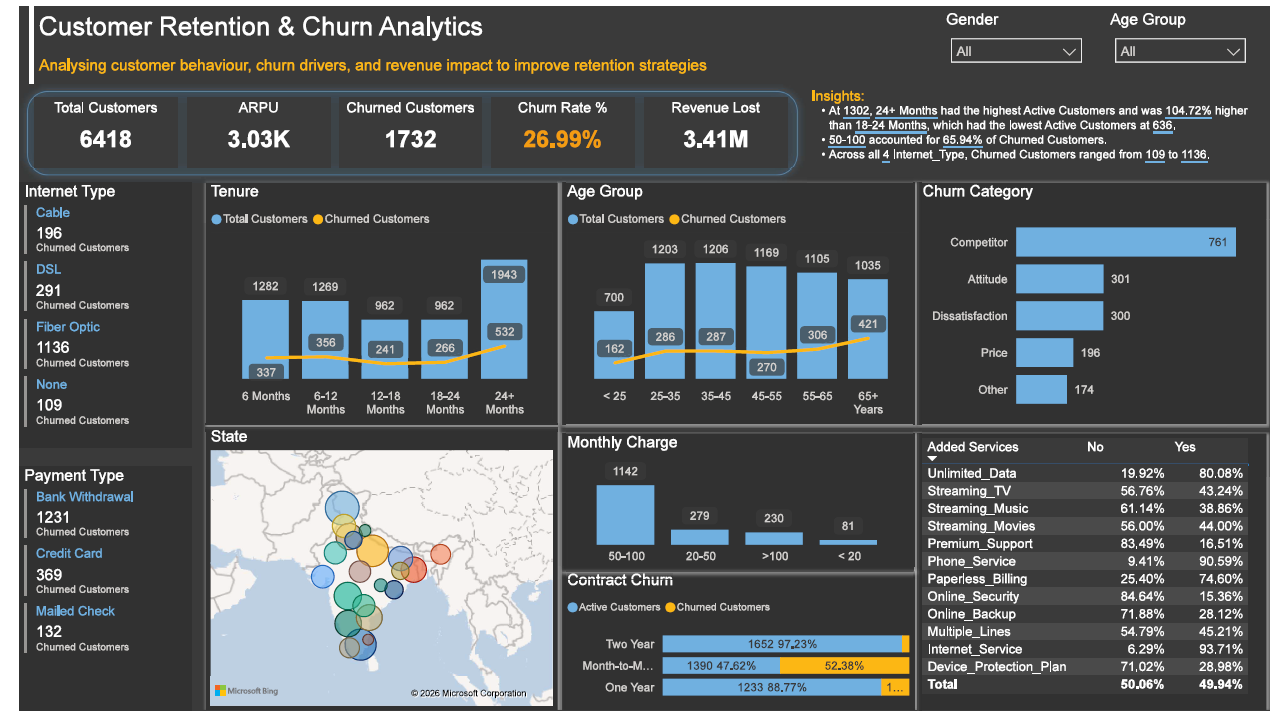

The dashboard page shown, as its layout file describes it:
{"tool":"powerbi","page":{"name":"Churn Analysis Dashboard","canvas":[1280,720],"ordinal":0},"visuals":[{"type":"shape","box":[0,77.9,805.8,102.3],"z":0},{"type":"textbox","box":[15.1,0,798.8,77.9],"z":1000},{"type":"card","title":"Total Customers","fields":{"Values":["Calculations.Total Customers"]},"box":[15.1,93.3,146.5,70.9],"z":2000},{"type":"card","title":"ARPU","fields":{"Values":["Calculations.ARPU"]},"box":[171.5,93.3,146.5,70.9],"z":3000},{"type":"card","title":"Churned Customers","fields":{"Values":["Calculations.Churned Customers"]},"box":[327.9,93.3,145.3,70.9],"z":4000},{"type":"card","title":"Churn Rate %","fields":{"Values":["Calculations.Churn %"]},"box":[483.1,93.3,146.5,70.9],"z":5000},{"type":"lineStackedColumnComboChart","title":"Age Group","fields":{"Category":["Age_Bucket.Age Bucket"],"Y2":["Calculations.Churned Customers"],"Y":["Calculations.Total Customers"]},"box":[555.8,180.2,360.5,246.5],"z":6000},{"type":"lineClusteredColumnComboChart","title":"Tenure","fields":{"Category":["Tenure_Months_Bucket.Month_Bucket"],"Y":["Calculations.Total Customers"],"Y2":["Calculations.Churned Customers"]},"box":[190.7,180.2,360.5,246.5],"z":7000},{"type":"clusteredBarChart","title":"Churn Category","fields":{"Category":["prod_churn.Churn_Category"],"Y":["Calculations.Churned Customers"]},"box":[919.8,180.2,357,246.5],"z":8000},{"type":"multiRowCard","title":"Internet Type","fields":{"Values":["prod_churn.Internet_Type","Calculations.Churned Customers"]},"box":[0,180.2,175.6,270.9],"z":9000},{"type":"hundredPercentStackedBarChart","title":"Contract Churn","fields":{"Y":["Calculations.Active Customers","Calculations.Churned Customers"],"Category":["prod_churn.Contract"]},"box":[555.8,577.9,360.5,141.9],"z":10000},{"type":"slicer","title":"Age Group","fields":{"Values":["Age_Bucket.Age Bucket"]},"box":[1111.6,4.3,154.7,57],"z":11000},{"type":"card","title":"Revenue Lost","fields":{"Values":["Calculations.Revenue Lost"]},"box":[639.5,93.3,146.5,70.9],"z":12000},{"type":"slicer","title":"Gender","fields":{"Values":["prod_churn.Gender"]},"box":[943.9,4.3,154,56],"z":13000},{"type":"lineClusteredColumnComboChart","title":"Monthly Charge","fields":{"Category":["prod_churn.Monthly Charge Bucket"],"Y":["Calculations.Churned Customers"]},"box":[555.8,437.2,360.5,140.7],"z":14000},{"type":"textbox","box":[805.8,77.9,466.3,93],"z":15000},{"type":"map","title":"State","fields":{"Size":["Calculations.Churned Customers"],"Series":["prod_churn.State"],"Category":["prod_churn.State"]},"box":[190.7,431.4,360.5,288.4],"z":16000},{"type":"pivotTable","fields":{"Rows":["Add Services.Added Services"],"Columns":["Add Services.Value"],"Values":["Sum(Add Services.Churn Status )"]},"box":[919.8,437.2,357,282.6],"z":17000},{"type":"multiRowCard","title":"Payment Type","fields":{"Values":["prod_churn.Payment_Method","Calculations.Churned Customers"]},"box":[0,470.9,175.6,248.8],"z":18000},{"type":"shape","box":[0,0,24.4,77.9],"z":19000}]}

Visuals, with their boxes in screenshot pixels (x1, y1, x2, y2), scaled from the page's 1280x720 canvas onto the 1280x722 screenshot:
shape: [x1=0, y1=78, x2=806, y2=181]
textbox: [x1=15, y1=0, x2=814, y2=78]
"Total Customers" card: [x1=15, y1=94, x2=162, y2=165]
"ARPU" card: [x1=172, y1=94, x2=318, y2=165]
"Churned Customers" card: [x1=328, y1=94, x2=473, y2=165]
"Churn Rate %" card: [x1=483, y1=94, x2=630, y2=165]
"Age Group" lineStackedColumnComboChart: [x1=556, y1=181, x2=916, y2=428]
"Tenure" lineClusteredColumnComboChart: [x1=191, y1=181, x2=551, y2=428]
"Churn Category" clusteredBarChart: [x1=920, y1=181, x2=1277, y2=428]
"Internet Type" multiRowCard: [x1=0, y1=181, x2=176, y2=452]
"Contract Churn" hundredPercentStackedBarChart: [x1=556, y1=580, x2=916, y2=721]
"Age Group" slicer: [x1=1112, y1=4, x2=1266, y2=61]
"Revenue Lost" card: [x1=640, y1=94, x2=786, y2=165]
"Gender" slicer: [x1=944, y1=4, x2=1098, y2=60]
"Monthly Charge" lineClusteredColumnComboChart: [x1=556, y1=438, x2=916, y2=580]
textbox: [x1=806, y1=78, x2=1272, y2=171]
"State" map: [x1=191, y1=433, x2=551, y2=721]
pivotTable - Add Services.Added Services x Add Services.Value: [x1=920, y1=438, x2=1277, y2=721]
"Payment Type" multiRowCard: [x1=0, y1=472, x2=176, y2=721]
shape: [x1=0, y1=0, x2=24, y2=78]
